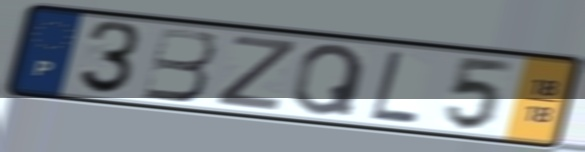3: (77, 20, 144, 97)
5: (443, 53, 517, 132)
B: (139, 25, 219, 104)
L: (367, 47, 422, 127)
Q: (290, 42, 369, 119)
Z: (211, 32, 301, 113)
